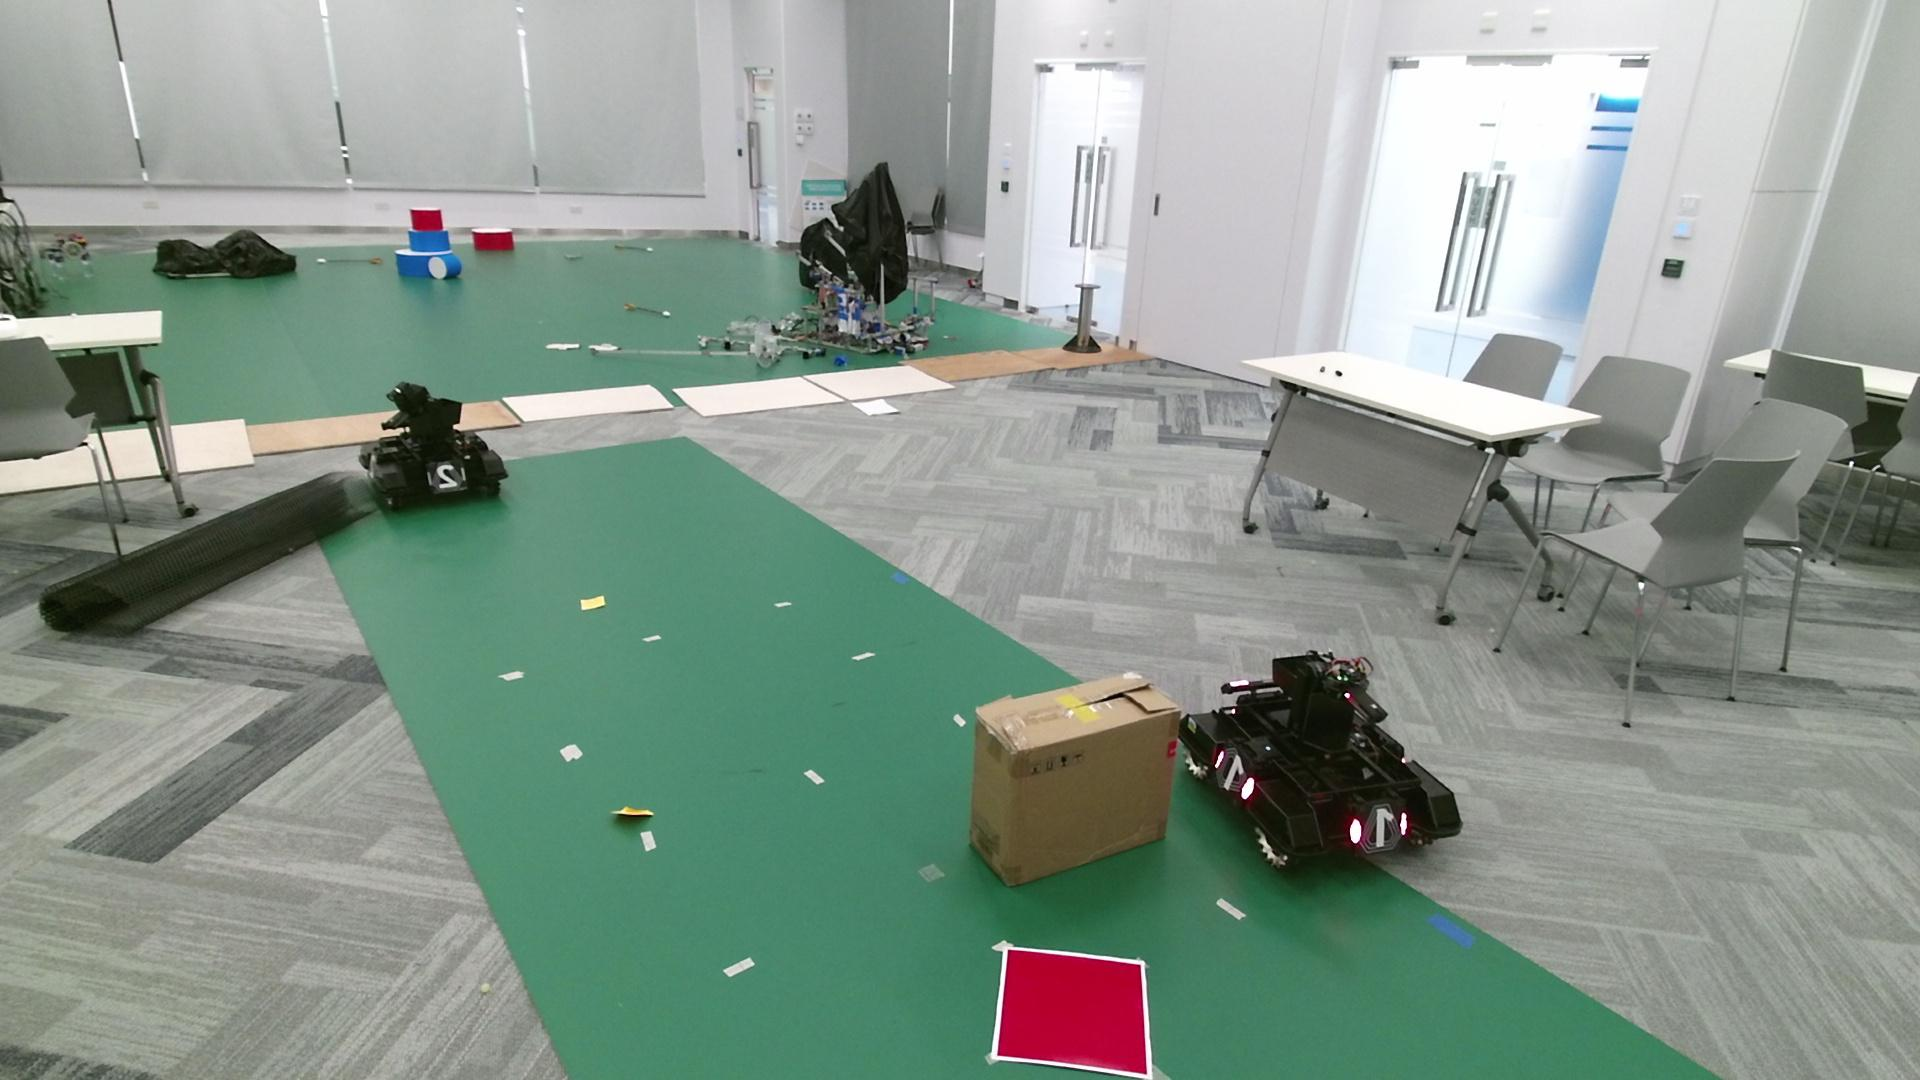robot: (1178, 649, 1464, 872), (357, 380, 508, 508)
